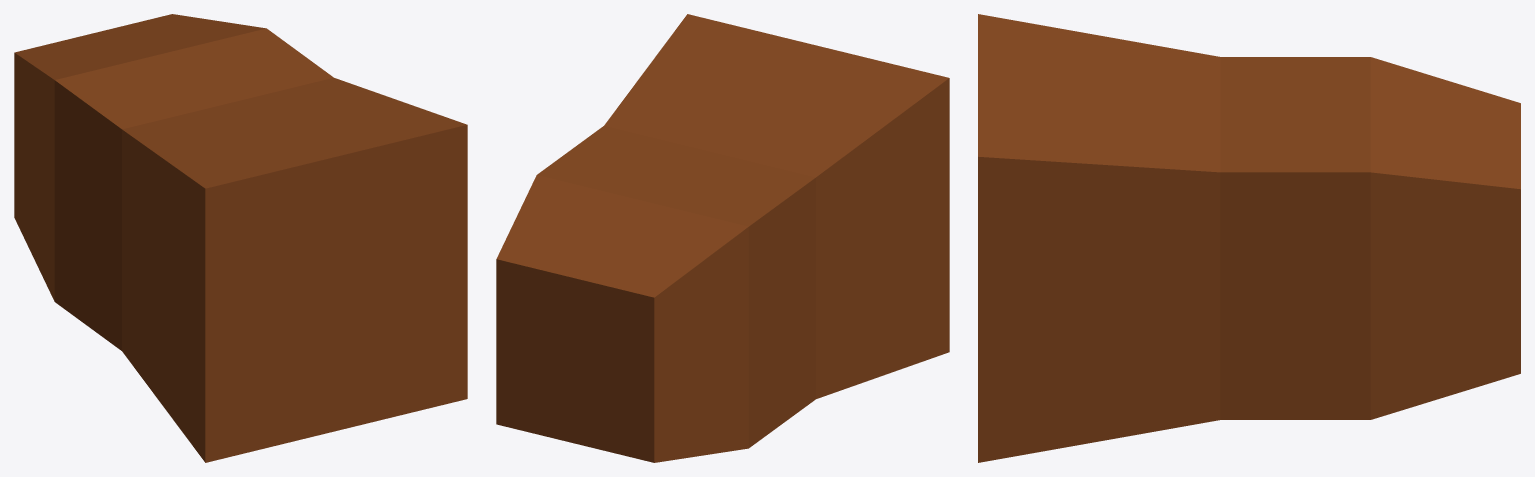
Rendered from Stand.fbx.
3 views of the same model, side by side, from view 1: azimuth 30°, elevation 25°; view 2: azimuth 150°, elevation 25°; view 3: azimuth 270°, elevation 25° (orthographic). The views are drawn at different scales.
Parts seen in each view (by area): view 1: windmill; view 2: windmill; view 3: windmill.
Part boxes in pixels (<box>): windmill: <box>14,14,467,462</box>; windmill: <box>496,14,949,462</box>; windmill: <box>978,14,1520,462</box>.
Bounding box in the file's own units: 0.9366 × 0.9366 × 1.5.
